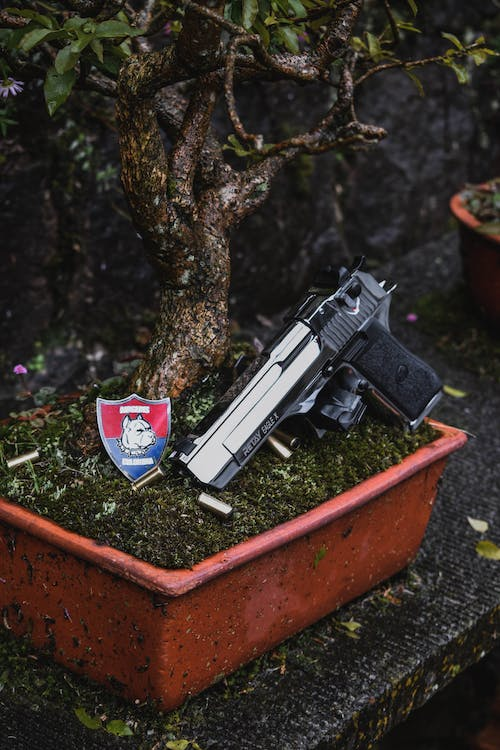gun: (166, 248, 449, 491)
